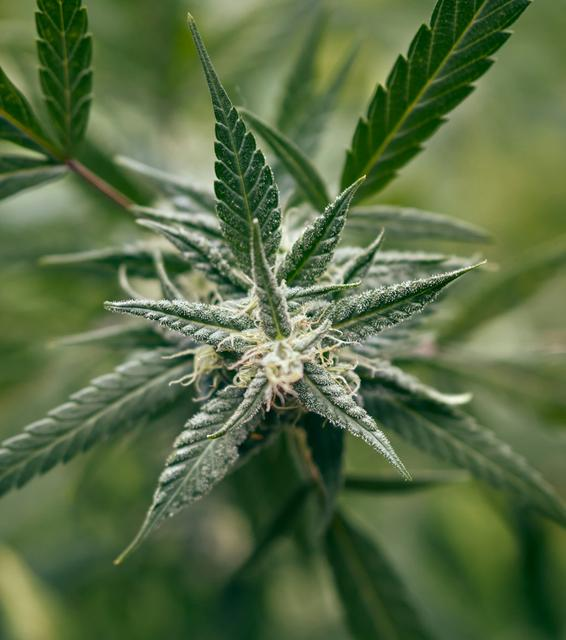Marijuana Plant: (27, 0, 565, 639)
